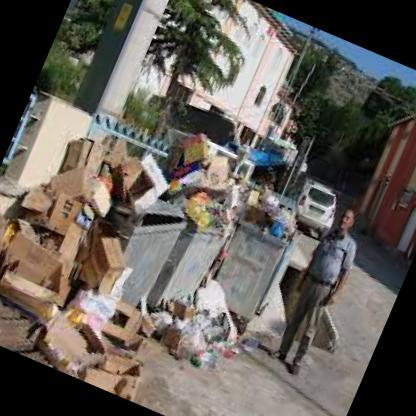Garbage: (0, 135, 172, 350), (138, 132, 298, 242), (22, 286, 150, 397), (142, 277, 241, 371)
